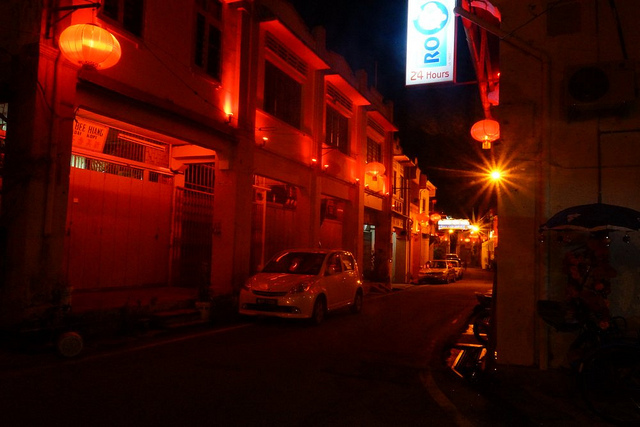car: (230, 247, 367, 332)
